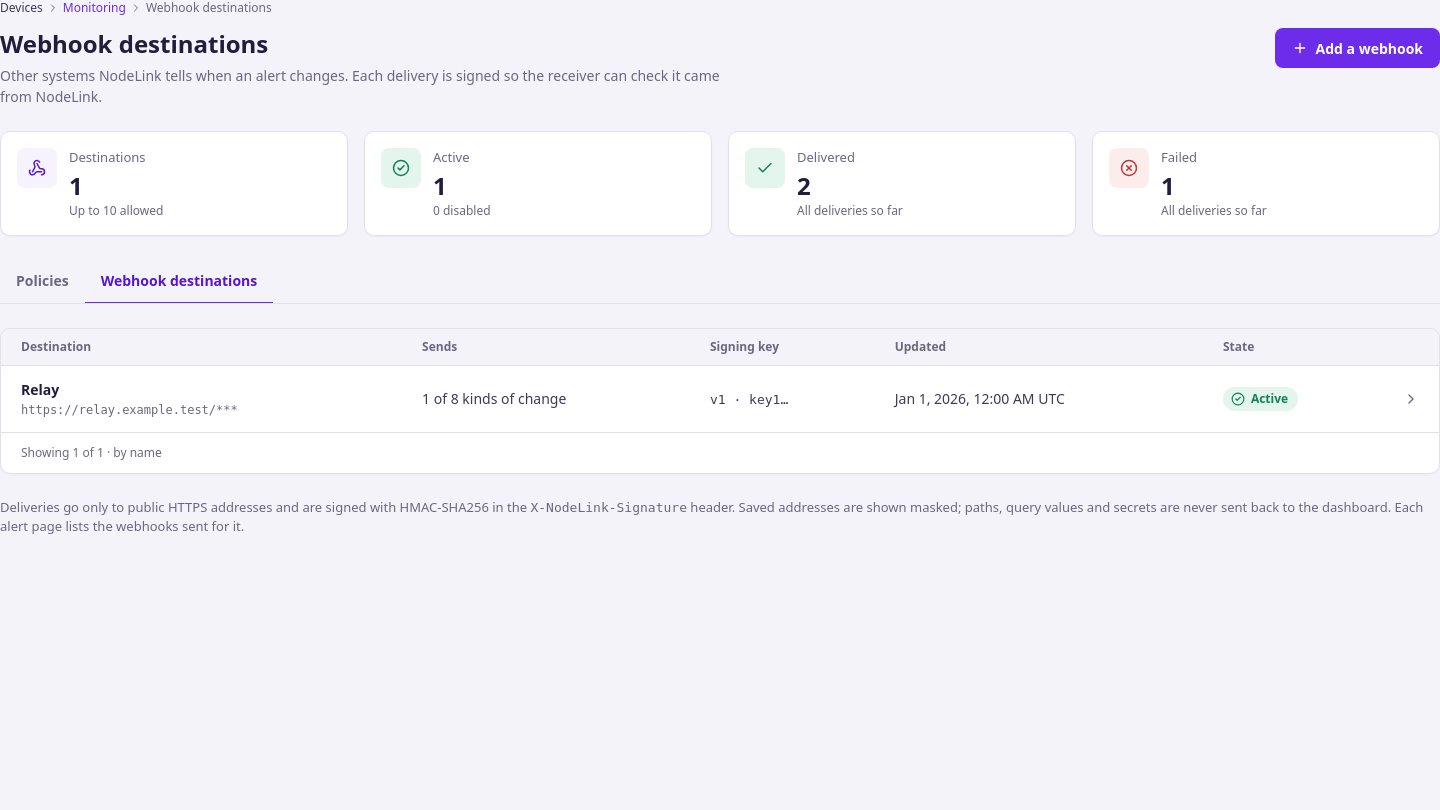
Scenario: editing a webhook keeps the masked address out of updates and preserves concurrency
Step 1. Click the row named "Open Relay" → (720, 399), box [1,365,1439,432]
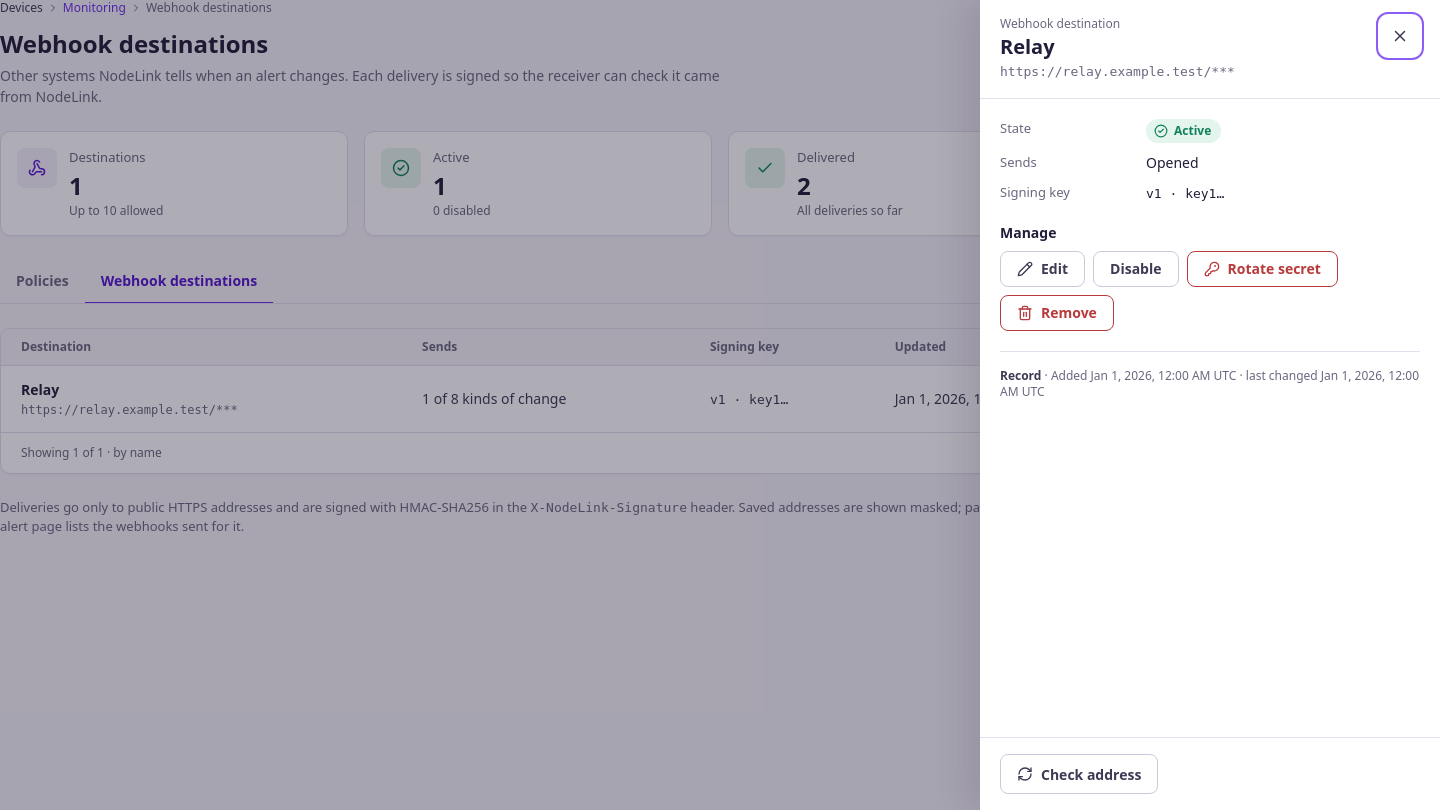
Step 2. Click the button "Edit" → (1043, 269), box [1000,251,1085,287]
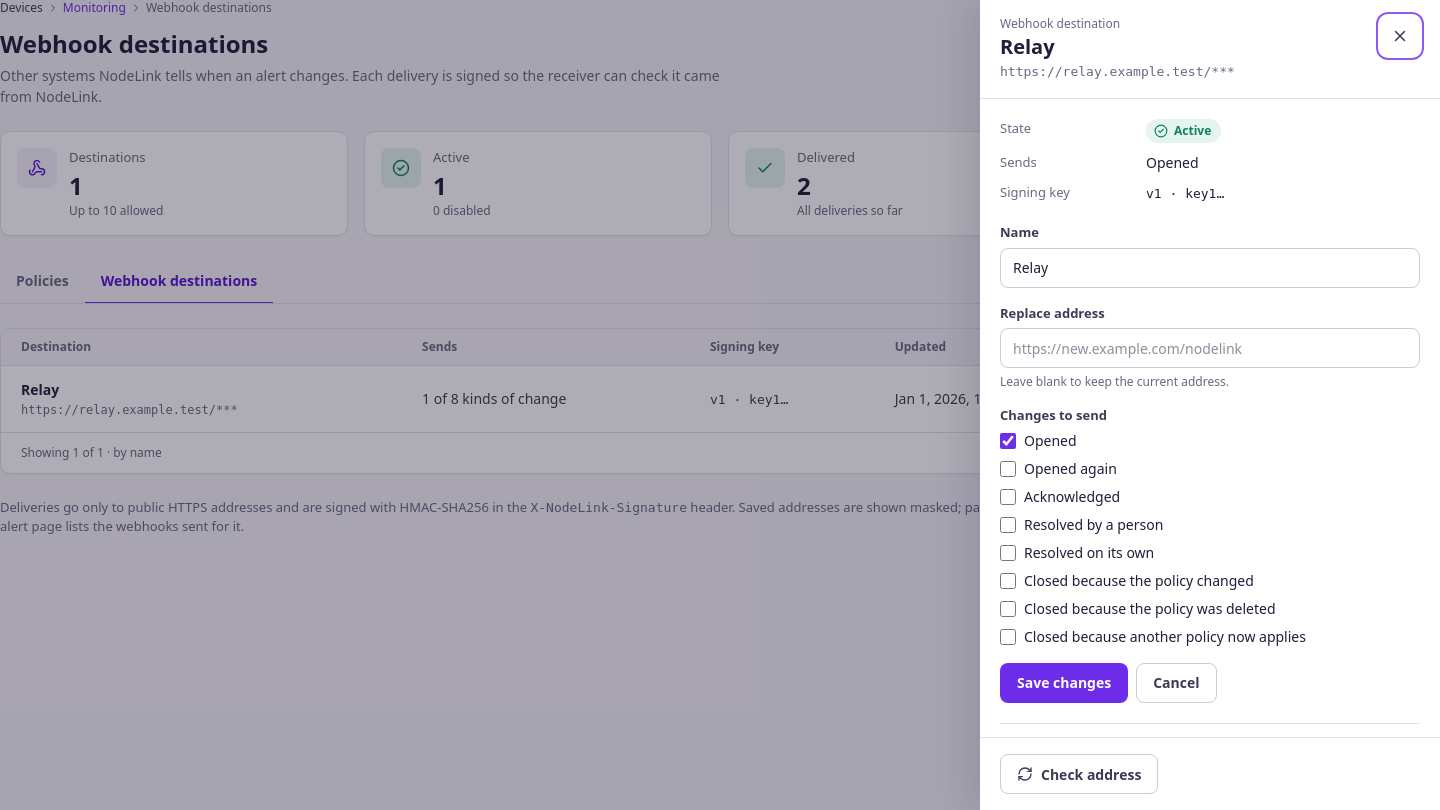
Step 3. Replace the text in the field labelled "Name" with "Renamed" → (1210, 268), box [1000,248,1420,288]
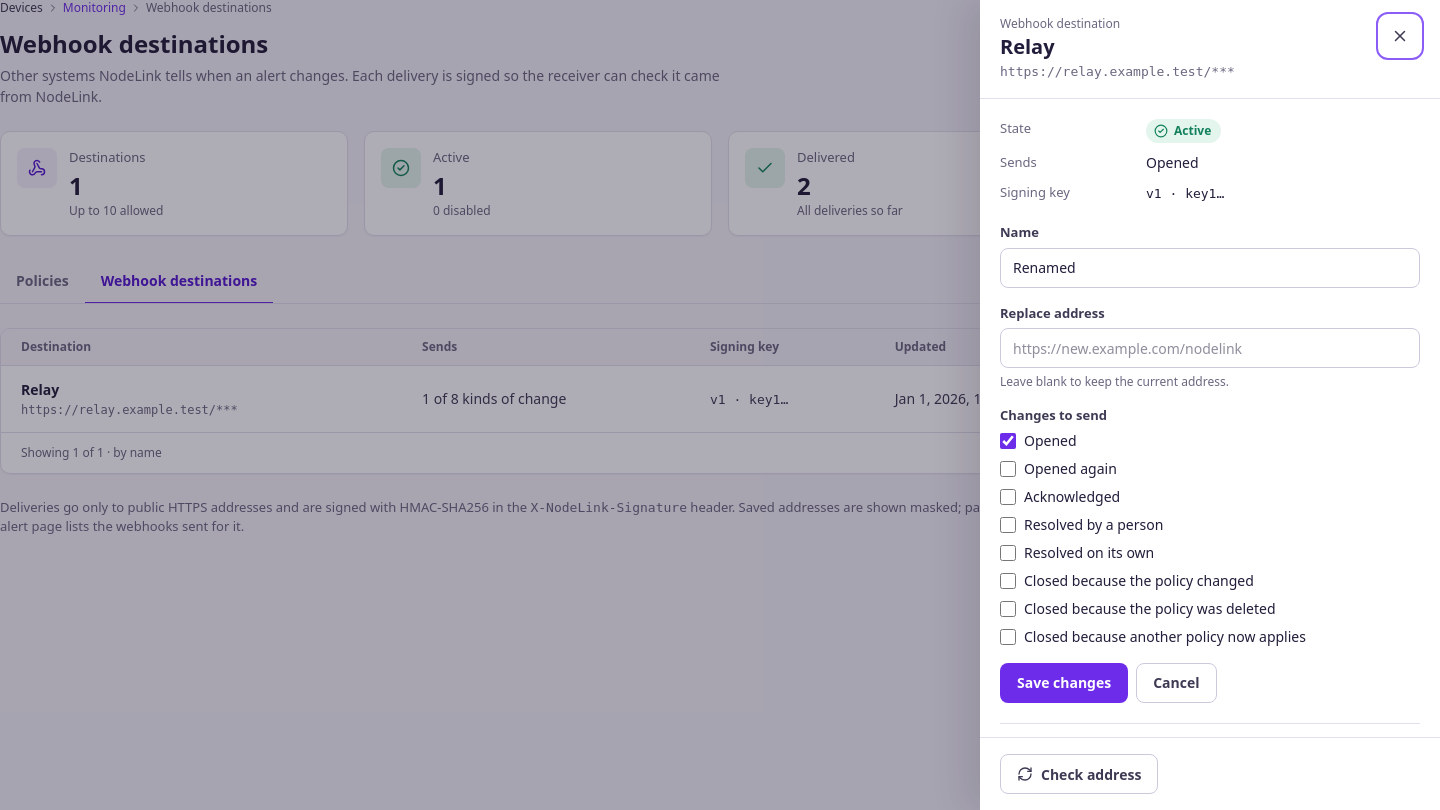
Step 4. Click the checkbox labelled "Opened again" → (1008, 469), box [1000,461,1016,477]
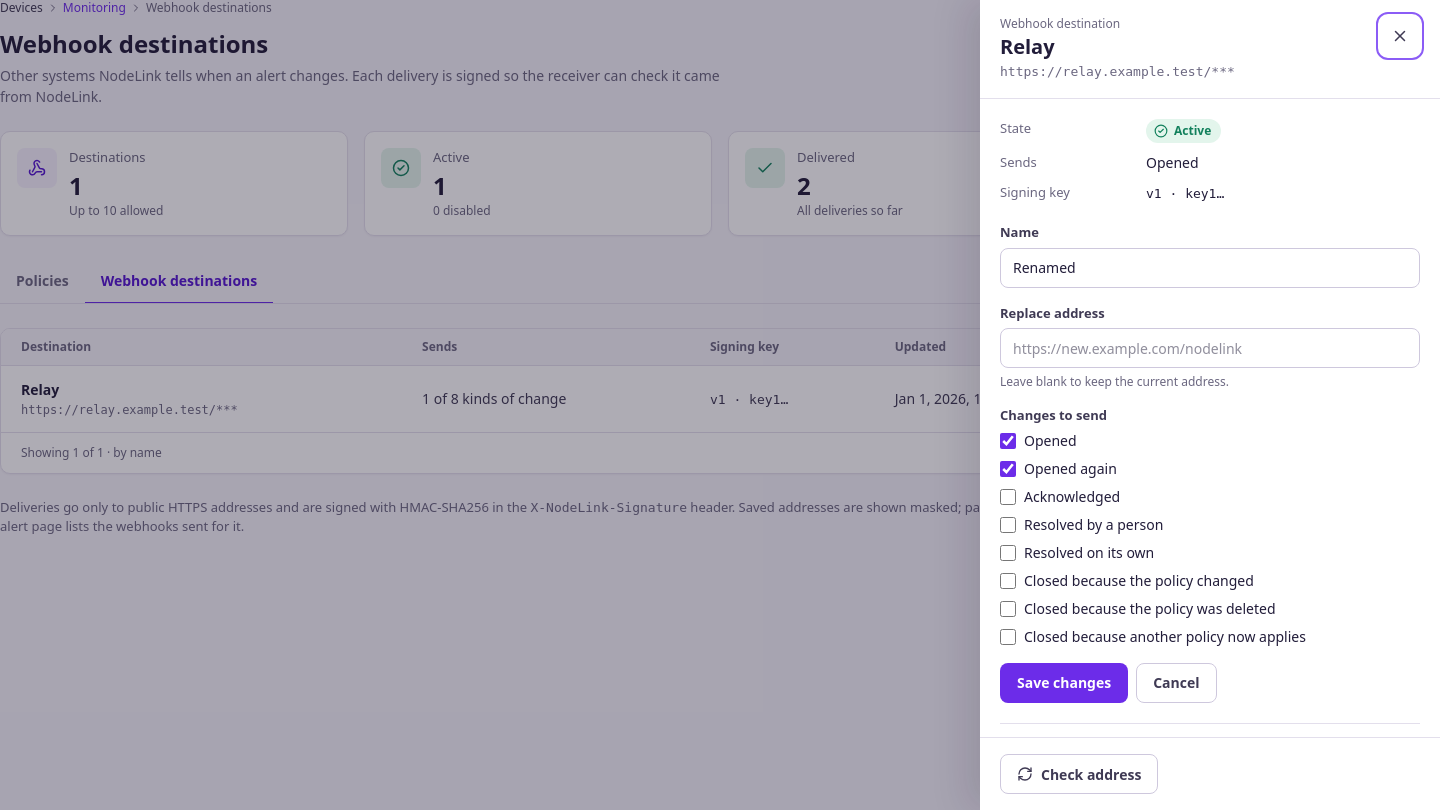
Step 5. Click the checkbox labelled "Opened again" → (1008, 469), box [1000,461,1016,477]
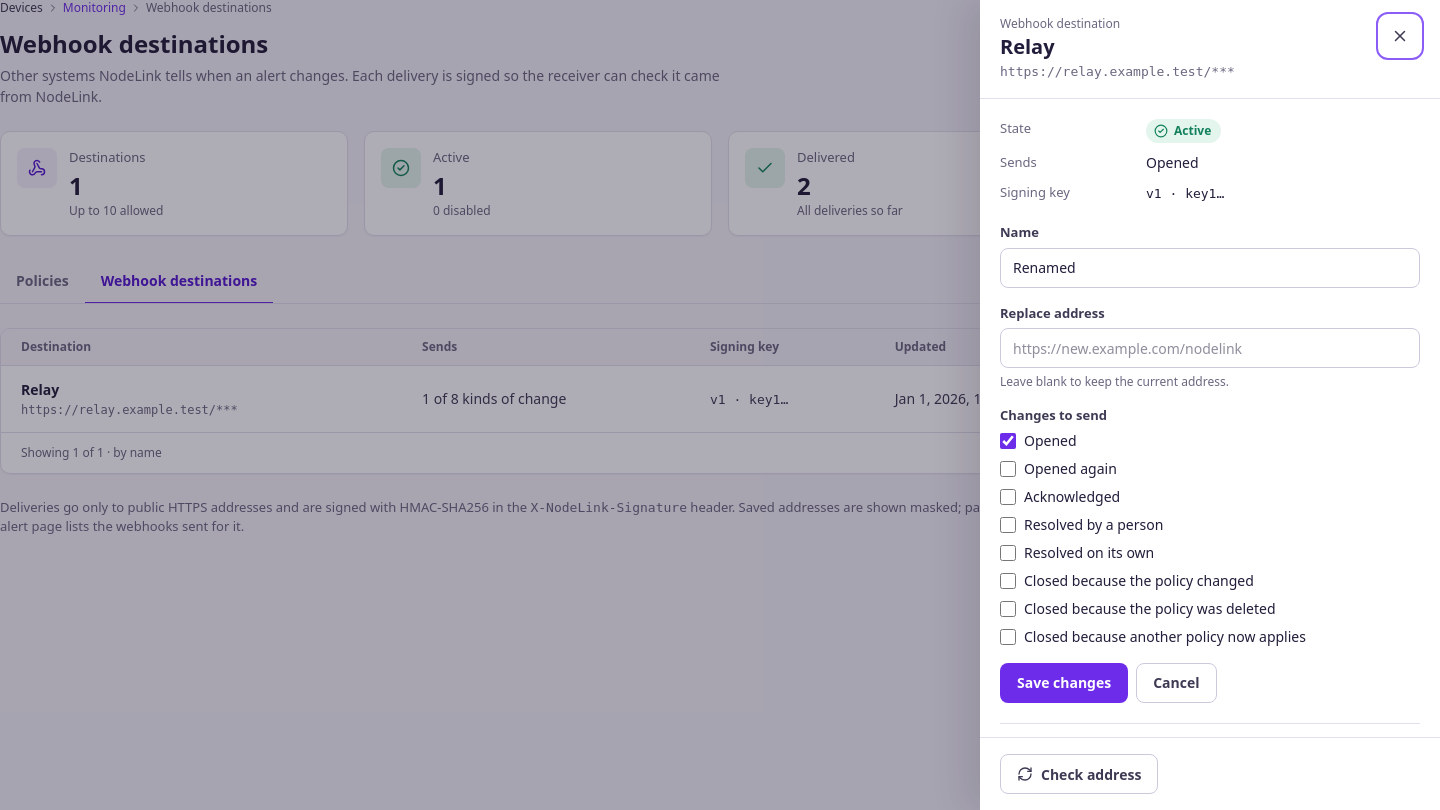
Step 6. Submit the form named "Edit destination", box [1000,223,1420,703]
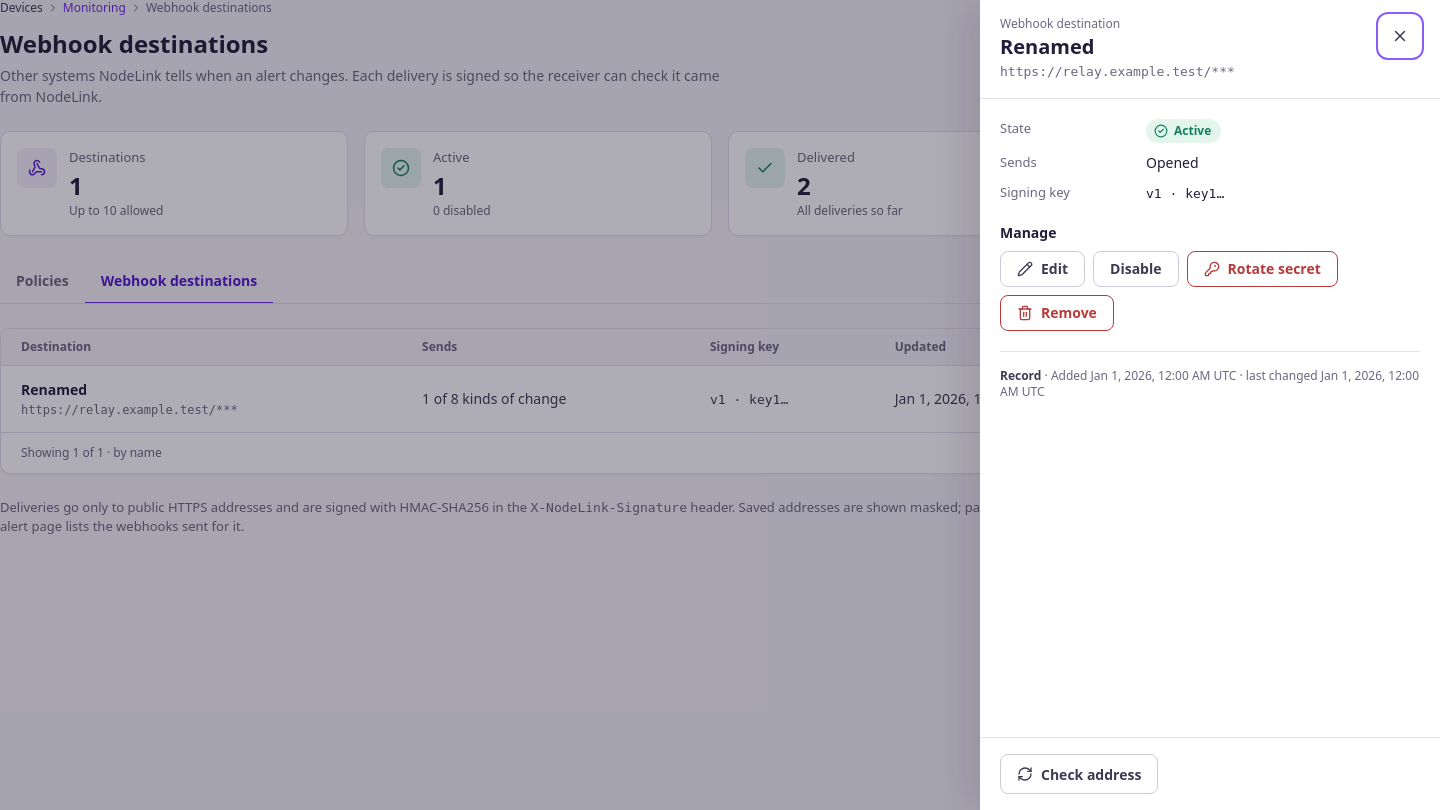
Result: the row named "Open Renamed" is shown at [1,365,1439,432]
